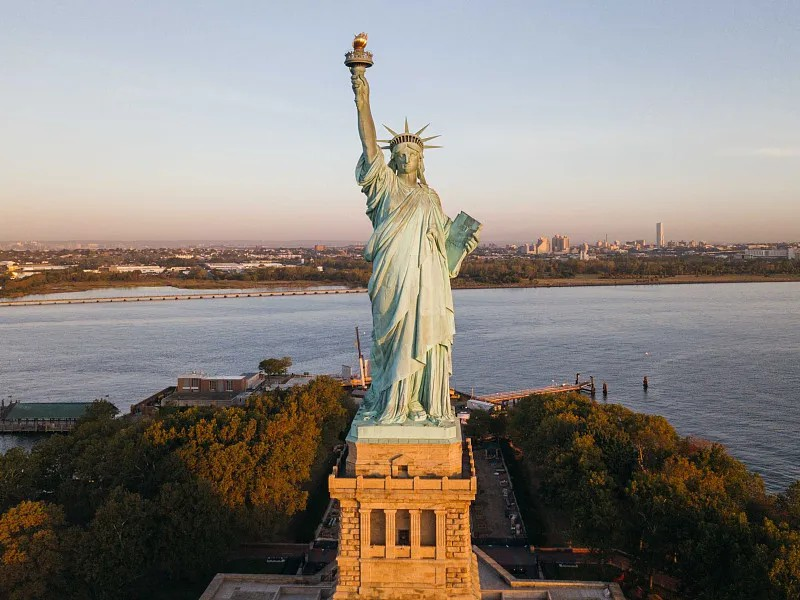SL: (328, 32, 483, 600)
